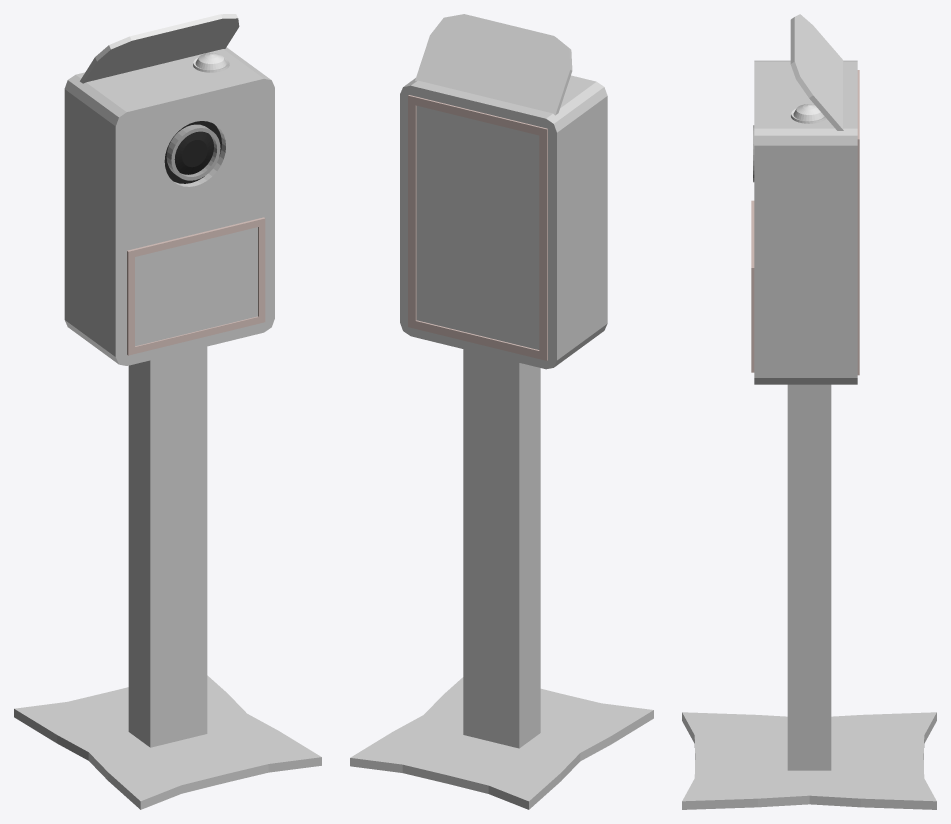
File: photoBooth.glb
The picture shows the model from 3 angles, left to right: view 1: azimuth 30°, elevation 25°; view 2: azimuth 150°, elevation 25°; view 3: azimuth 270°, elevation 25°; orthographic projection.
Parts seen in each view (by area): view 1: Booth, Stand.001, Base, Reflector, Flash; view 2: Booth, Stand.001, Base, Reflector; view 3: Booth, Base, Stand.001, Reflector, Flash.
Boxes of the visible parts, bbox=[...] form: Booth: bbox=[64, 47, 274, 365]; Stand.001: bbox=[128, 346, 207, 747]; Base: bbox=[14, 675, 321, 809]; Reflector: bbox=[80, 14, 239, 83]; Flash: bbox=[193, 53, 229, 72]; Booth: bbox=[400, 75, 607, 369]; Stand.001: bbox=[463, 349, 540, 748]; Base: bbox=[350, 677, 653, 809]; Reflector: bbox=[415, 14, 572, 115]; Booth: bbox=[751, 60, 859, 384]; Base: bbox=[682, 712, 936, 809]; Stand.001: bbox=[787, 384, 831, 770]; Reflector: bbox=[790, 14, 843, 130]; Flash: bbox=[791, 104, 826, 123].
Bounding box in the file's own units: 2.26 × 8.58 × 2.73.
